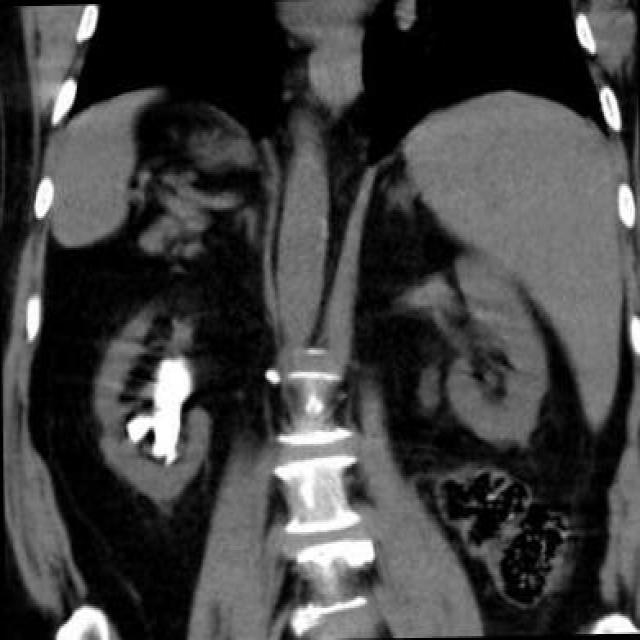Tas_Var: (141, 350, 191, 472), (122, 412, 150, 444), (160, 452, 179, 466)
